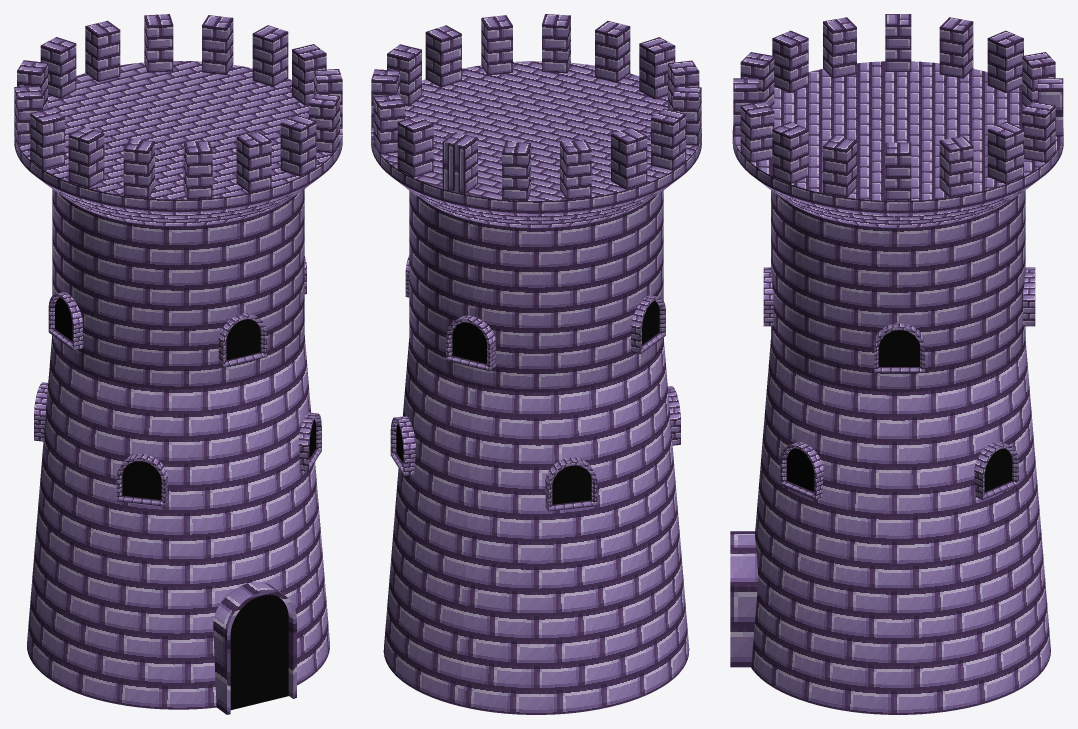
The model's file is Tower.obj.
3 renders of one model, left to right at view 1: azimuth 30°, elevation 25°; view 2: azimuth 150°, elevation 25°; view 3: azimuth 270°, elevation 25°, orthographic.
Visible parts, largest first — view 1: Tower, Doorway, Window.007, Window.004, Window.002, Window.001, Window.006; view 2: Tower, Window.006, Window.003, Window.002, Window, Window.007; view 3: Tower, Doorway, Window.005, Window, Window.001, Window.003, Window.004.
Boxes of the visible parts, x1,y1,x2,y2 form: Tower: (14,14,342,709); Doorway: (213,582,296,714); Window.007: (116,454,167,506); Window.004: (218,313,266,367); Window.002: (48,292,82,350); Window.001: (298,412,321,471); Window.006: (34,382,48,441); Tower: (371,14,701,714); Window.006: (545,457,597,511); Window.003: (446,315,495,371); Window.002: (631,295,665,353); Window: (390,416,415,475); Window.007: (667,386,680,445); Tower: (732,14,1063,714); Doorway: (730,531,758,667); Window.005: (874,323,924,372); Window: (974,441,1018,499); Window.001: (780,442,823,499); Window.003: (1023,267,1035,326); Window.004: (763,267,773,326).
Size of the model in its own units: 13 by 24.55 by 13.1.
